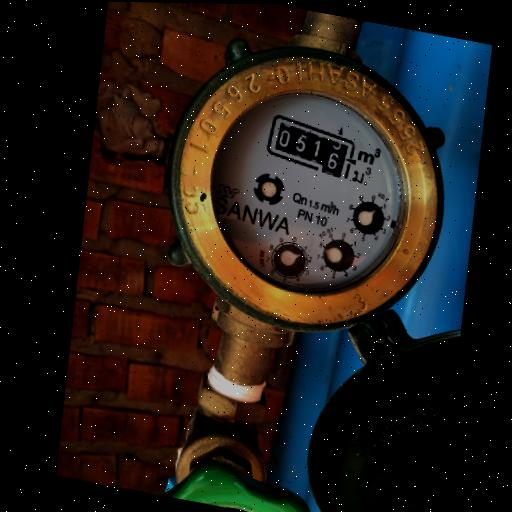0: (271, 121, 298, 154)
1: (302, 132, 331, 165)
5: (286, 126, 314, 160)
6: (318, 137, 351, 179)
border_water_meter_number: (259, 112, 361, 181)
